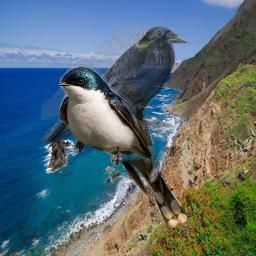Crow: (41, 26, 190, 146)
Cuckoo: (102, 84, 188, 228)
Swallow: (59, 66, 154, 167)
